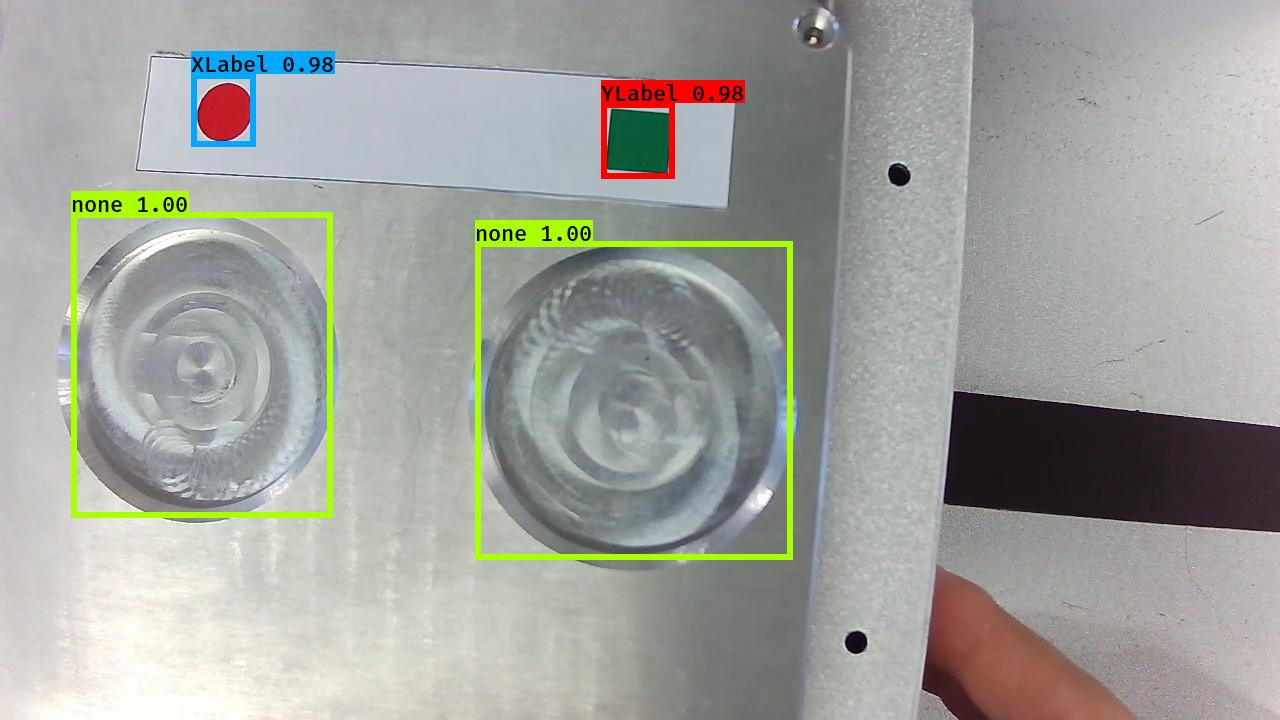XLabel: (195, 80, 253, 143)
YLabel: (603, 104, 676, 178)
none: (464, 239, 802, 575), (49, 207, 346, 527)
